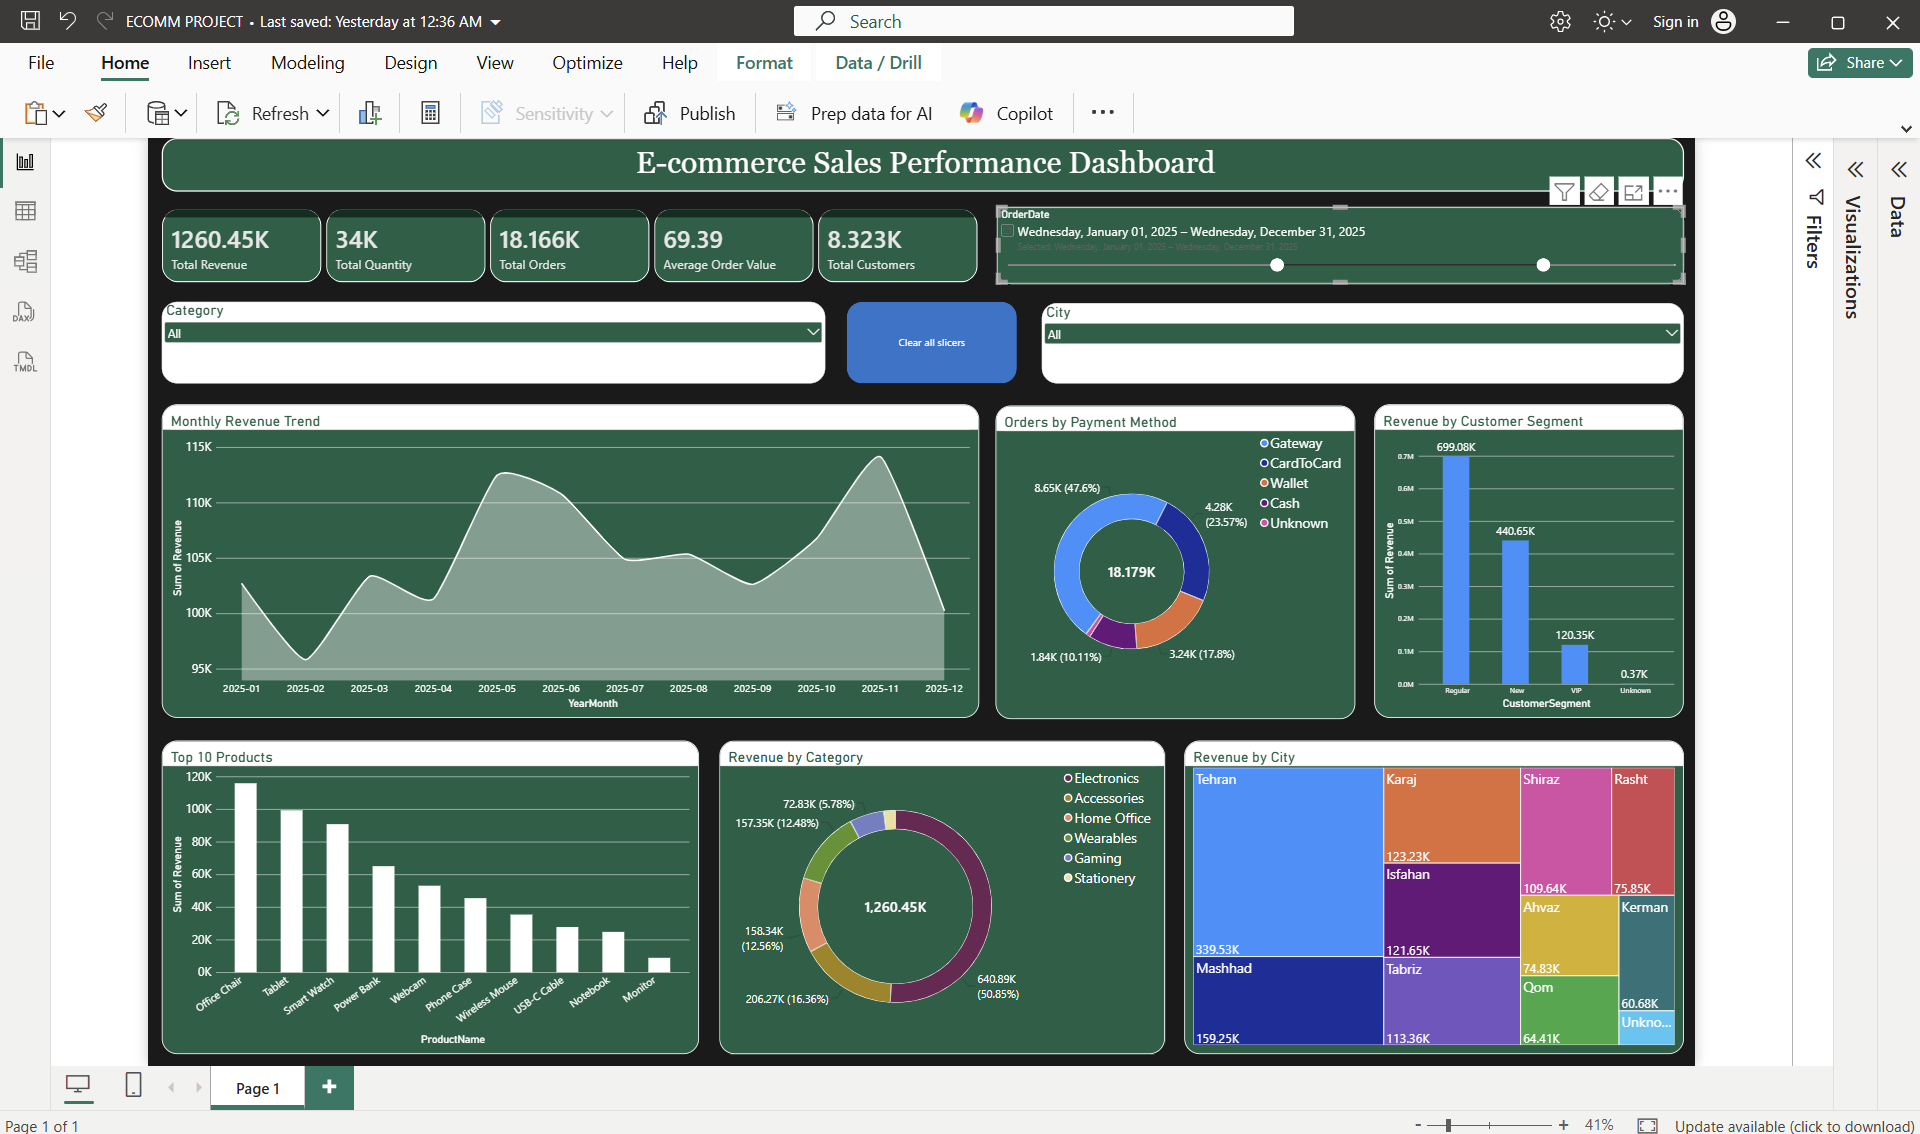

The dashboard page shown, as its layout file describes it:
{"tool":"powerbi","page":{"name":"Page 1","canvas":[3000,1800],"ordinal":0},"visuals":[{"type":"cardVisual","fields":{"Data":["Sum(final_data.Revenue)","Sum(final_data.Quantity)","Count(final_data.OrderID)","final_data.AOV","Count(final_data.CustomerID)"]},"box":[26,137.7,1584.9,142.9],"z":0},{"type":"textbox","box":[0,351.5,1610,150],"z":1000},{"type":"textbox","box":[26,0,2951.5,103.9],"z":2000},{"type":"lineChart","title":"Monthly Revenue Trend","fields":{"Category":["final_data.YearMonth"],"Y":["Sum(final_data.Revenue)"]},"box":[26,517,1584.9,608],"z":3000},{"type":"clusteredColumnChart","title":"Top 10 Products","fields":{"Category":["final_data.ProductName"],"Y":["Sum(final_data.Revenue)"]},"box":[26,1169.2,1041.9,608],"z":4000},{"type":"donutChart","title":"Revenue by Category","fields":{"Category":["final_data.Category"],"Y":["Sum(final_data.Revenue)"]},"box":[1106.5,1169.2,863.9,607.7],"z":5000},{"type":"actionButton","box":[1353.6,317,330,158.5],"z":6000},{"type":"treemap","title":"Revenue by City","fields":{"Group":["final_data0.City"],"Values":["Sum(final_data.Revenue)"]},"box":[2008.4,1169.2,969.1,608],"z":7000},{"type":"donutChart","title":"Orders by Payment Method","fields":{"Category":["final_data0.PaymentMethod"],"Y":["CountNonNull(final_data0.OrderID)"]},"box":[1643.4,517.8,697.7,607.7],"z":8000},{"type":"clusteredColumnChart","title":"Revenue by Customer Segment","fields":{"Category":["final_data0.CustomerSegment"],"Y":["Sum(final_data.Revenue)"]},"box":[2377.3,517,600.2,608],"z":9000},{"type":"slicer","fields":{"Values":["final_data0.OrderDate"]},"box":[1644.6,132.5,1332.9,150.7],"z":10000},{"type":"slicer","fields":{"Values":["final_data0.Category"]},"box":[26,317,1286.1,158.5],"z":11000},{"type":"slicer","fields":{"Values":["final_data0.City"]},"box":[1733,319.6,1244.5,155.9],"z":12000}]}

Visuals, with their boxes on the page's 3000x1800 design canvas (x1, y1, x2, y2). These are canvas units, not pixel positions in the 1920x1134 screenshot, which may show the page scaled, cropped or inside an application window:
cardVisual - Sum(final_data.Revenue) x Sum(final_data.Quantity): rect(26, 138, 1611, 281)
textbox: rect(0, 352, 1610, 502)
textbox: rect(26, 0, 2978, 104)
"Monthly Revenue Trend" lineChart: rect(26, 517, 1611, 1125)
"Top 10 Products" clusteredColumnChart: rect(26, 1169, 1068, 1777)
"Revenue by Category" donutChart: rect(1106, 1169, 1970, 1777)
actionButton: rect(1354, 317, 1684, 476)
"Revenue by City" treemap: rect(2008, 1169, 2978, 1777)
"Orders by Payment Method" donutChart: rect(1643, 518, 2341, 1126)
"Revenue by Customer Segment" clusteredColumnChart: rect(2377, 517, 2978, 1125)
slicer - final_data0.OrderDate: rect(1645, 132, 2978, 283)
slicer - final_data0.Category: rect(26, 317, 1312, 476)
slicer - final_data0.City: rect(1733, 320, 2978, 476)
